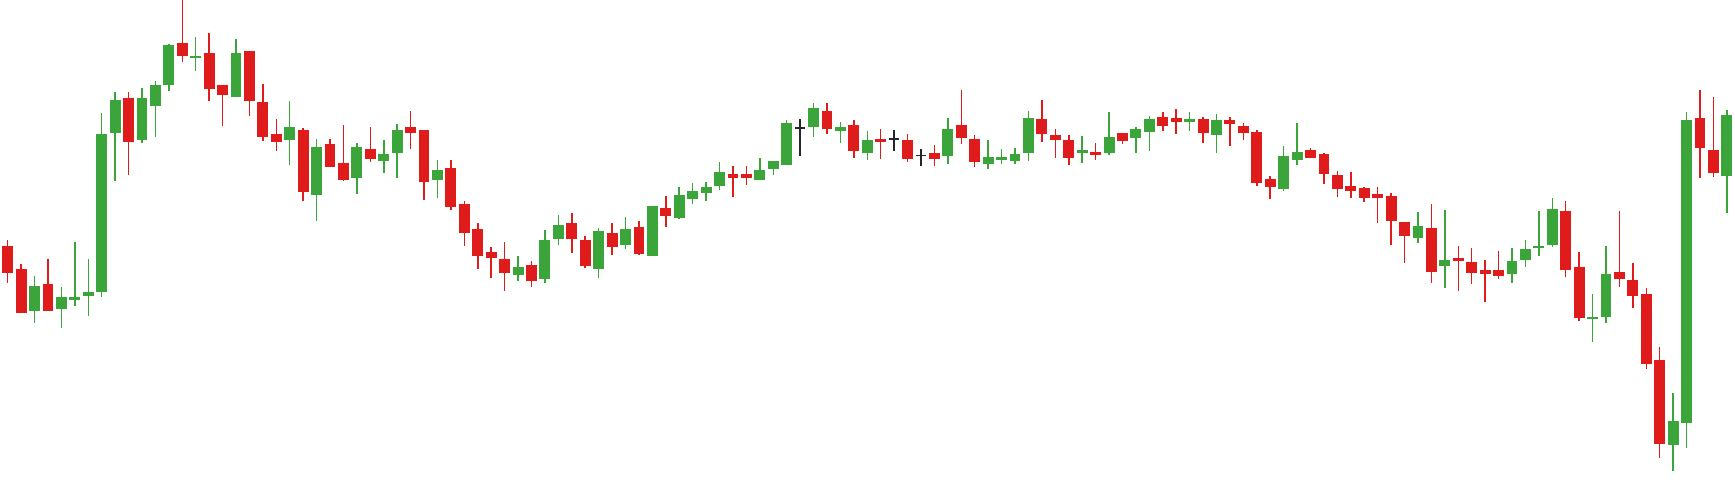sell: (1441, 194, 1573, 286)
